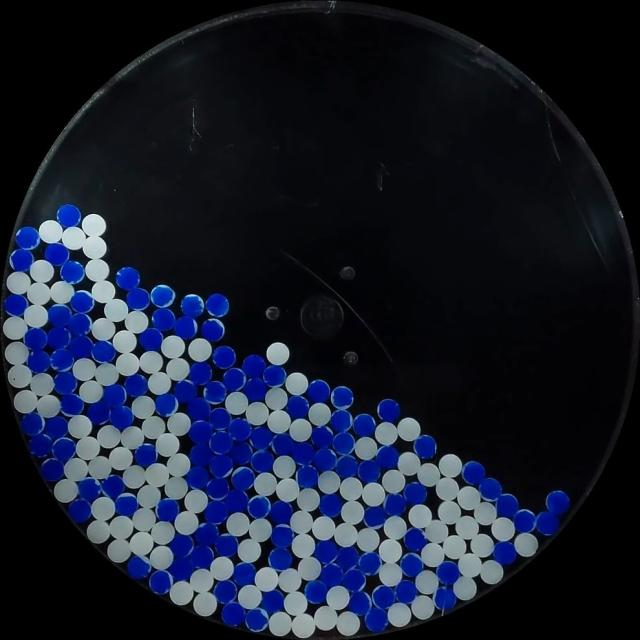pmmma-azul: (76, 476, 102, 502), (545, 490, 570, 516), (188, 419, 213, 445), (535, 510, 560, 536), (101, 474, 126, 500), (185, 395, 210, 421), (492, 540, 517, 565), (109, 405, 134, 430), (375, 444, 399, 470), (28, 433, 54, 457), (44, 242, 70, 266), (224, 488, 248, 514), (364, 606, 388, 632), (461, 460, 485, 486), (202, 380, 228, 404), (311, 424, 335, 450), (244, 608, 269, 632), (52, 437, 76, 462), (40, 458, 65, 482), (413, 434, 437, 459), (228, 417, 252, 442), (249, 426, 273, 451), (188, 361, 213, 385), (495, 493, 519, 518), (102, 383, 127, 407), (230, 466, 254, 491), (312, 447, 336, 472), (169, 533, 193, 558), (44, 416, 69, 440), (319, 562, 343, 587), (60, 260, 85, 284), (15, 226, 40, 250), (205, 293, 230, 317), (170, 558, 195, 582), (363, 506, 388, 530), (348, 590, 371, 616), (269, 500, 293, 524), (307, 379, 331, 403), (270, 524, 294, 548), (243, 377, 267, 401), (232, 562, 256, 586), (114, 492, 138, 516), (260, 589, 284, 613), (21, 412, 45, 436), (399, 552, 423, 576), (151, 308, 175, 332), (268, 546, 292, 570), (139, 328, 163, 352), (222, 367, 246, 391), (213, 579, 237, 603), (50, 348, 74, 372), (204, 499, 228, 523), (127, 556, 151, 580), (68, 312, 92, 336), (4, 293, 28, 317), (342, 568, 366, 592), (70, 290, 94, 314), (221, 602, 245, 626), (87, 401, 111, 425), (209, 430, 233, 454), (68, 335, 92, 359), (174, 315, 198, 339), (201, 318, 225, 342), (209, 454, 233, 478), (52, 370, 76, 394), (478, 477, 502, 501), (10, 248, 34, 272), (46, 326, 70, 350), (212, 345, 236, 369), (60, 392, 84, 416), (242, 354, 266, 378), (86, 400, 110, 424), (116, 266, 140, 290), (190, 544, 213, 569), (154, 393, 179, 416), (319, 492, 342, 517), (47, 304, 72, 327), (91, 340, 116, 363), (247, 494, 270, 519), (26, 349, 51, 372), (180, 294, 205, 317), (214, 533, 238, 556), (383, 492, 406, 516), (156, 498, 179, 522), (68, 499, 92, 522), (286, 394, 309, 418), (206, 476, 229, 500), (124, 374, 148, 397), (358, 551, 381, 575), (404, 527, 427, 551), (263, 364, 287, 387), (513, 509, 536, 533), (126, 287, 150, 310), (149, 570, 172, 594), (186, 465, 209, 489), (304, 580, 328, 603), (57, 204, 81, 227), (436, 560, 459, 584), (24, 326, 47, 350), (195, 522, 218, 546), (296, 464, 318, 489), (353, 413, 376, 436), (403, 482, 426, 505), (394, 580, 417, 603), (209, 407, 232, 430), (336, 454, 358, 478), (378, 398, 400, 422), (330, 408, 352, 432), (150, 285, 174, 307), (434, 586, 456, 610), (314, 541, 338, 563), (358, 460, 382, 482), (372, 585, 394, 609), (332, 432, 354, 455), (134, 444, 157, 466), (331, 386, 354, 408), (250, 450, 273, 472), (292, 442, 314, 465), (336, 547, 359, 569), (175, 380, 197, 402), (272, 434, 294, 456), (190, 443, 212, 464), (231, 442, 252, 462)
